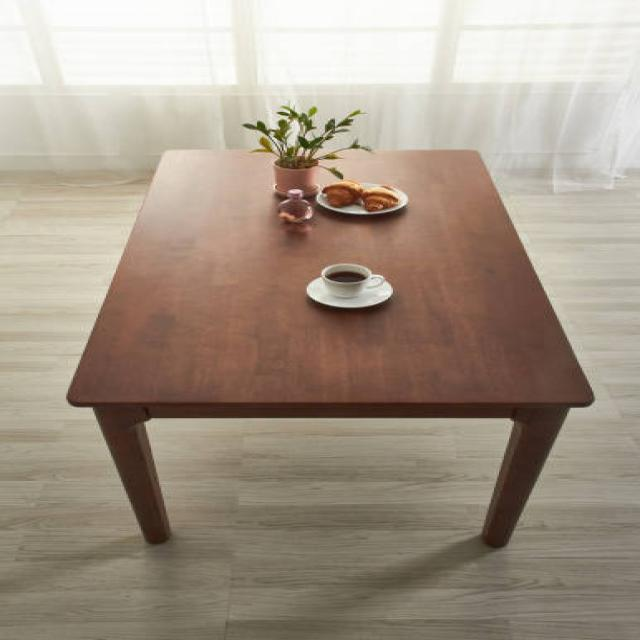table: (64, 146, 596, 547)
